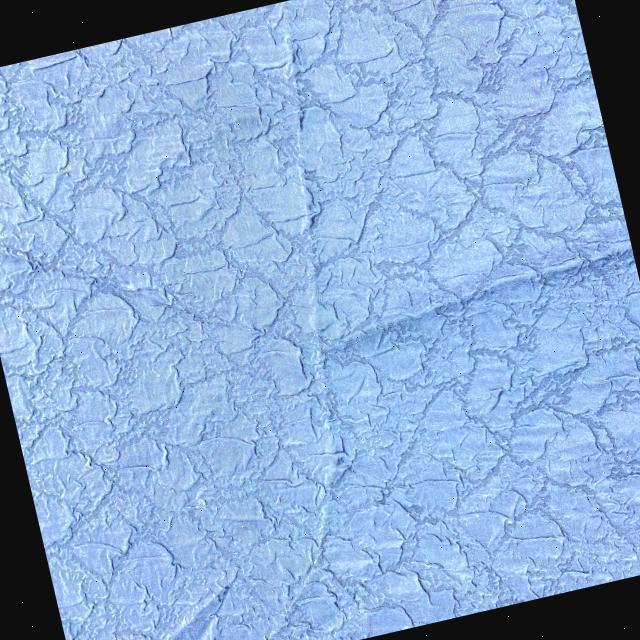broken_yarn: (319, 238, 626, 349), (288, 7, 346, 549)
